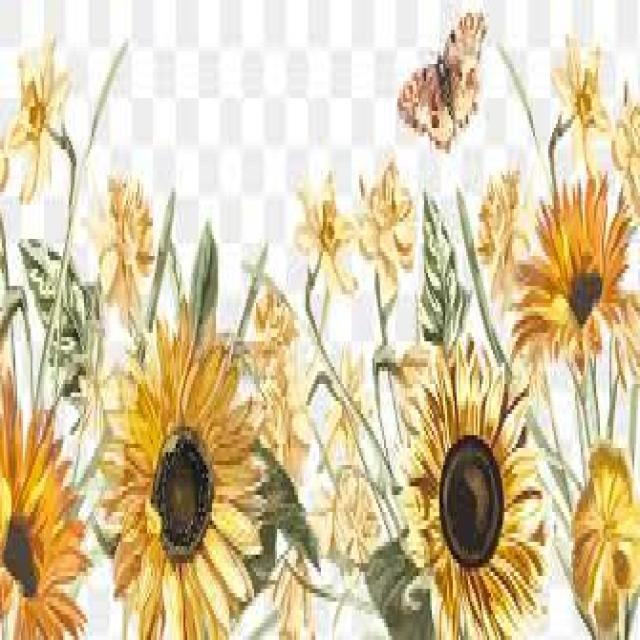sunflower: (97, 298, 266, 636), (403, 338, 546, 636), (510, 167, 634, 376), (0, 367, 90, 636)
